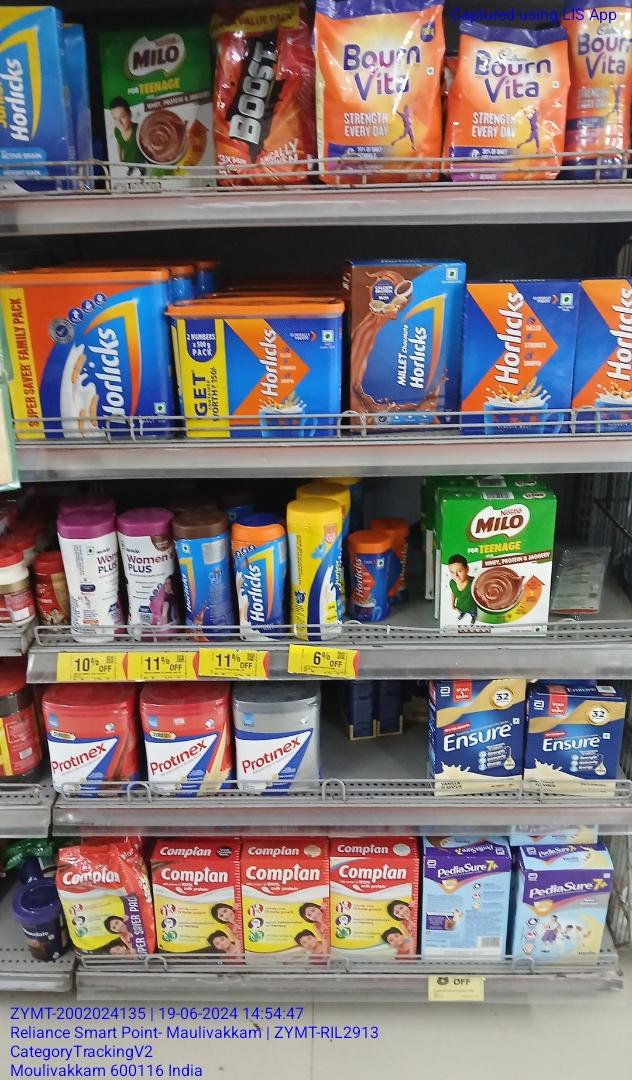COMPLAN_CHOCOLATE_500_GMS_PACK: (157, 857, 243, 966)
COMPLAN_CREAMY_CLASSIC_500_G_PACK: (332, 855, 420, 964)
COMPLAN_KESAR_BADAM_500_GMS_PACK: (246, 859, 329, 968)
COMPLAN_RC_POUCH_700_GMS_12: (61, 847, 151, 965)
ENSURE_VANILLA_400_G_PACK: (434, 678, 526, 798), (529, 694, 622, 794)
HORLICK_CHOCOLATE_200_G_JAR: (348, 530, 389, 621)
HORLICK_CLASSIC_MALT_500_G_JAR: (233, 519, 286, 644)
HORLICK_MALT_1_KG_CONTAINER: (173, 301, 341, 435)
PROTINEX_CHOCOLATE_400_G_JAR: (45, 696, 136, 796)
PROTINEX_ORIGINAL_400_G_JAR: (238, 688, 321, 792)
PROTINEX_VANILLA_400_G_JAR: (143, 692, 235, 799)
